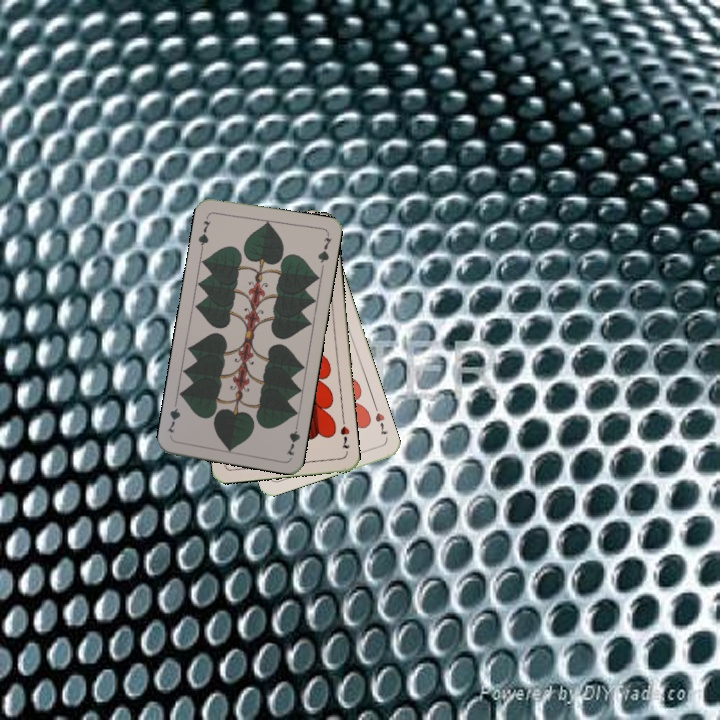G7: (282, 418, 303, 458), (194, 212, 213, 252)
H7: (371, 408, 391, 438), (336, 415, 352, 451)
